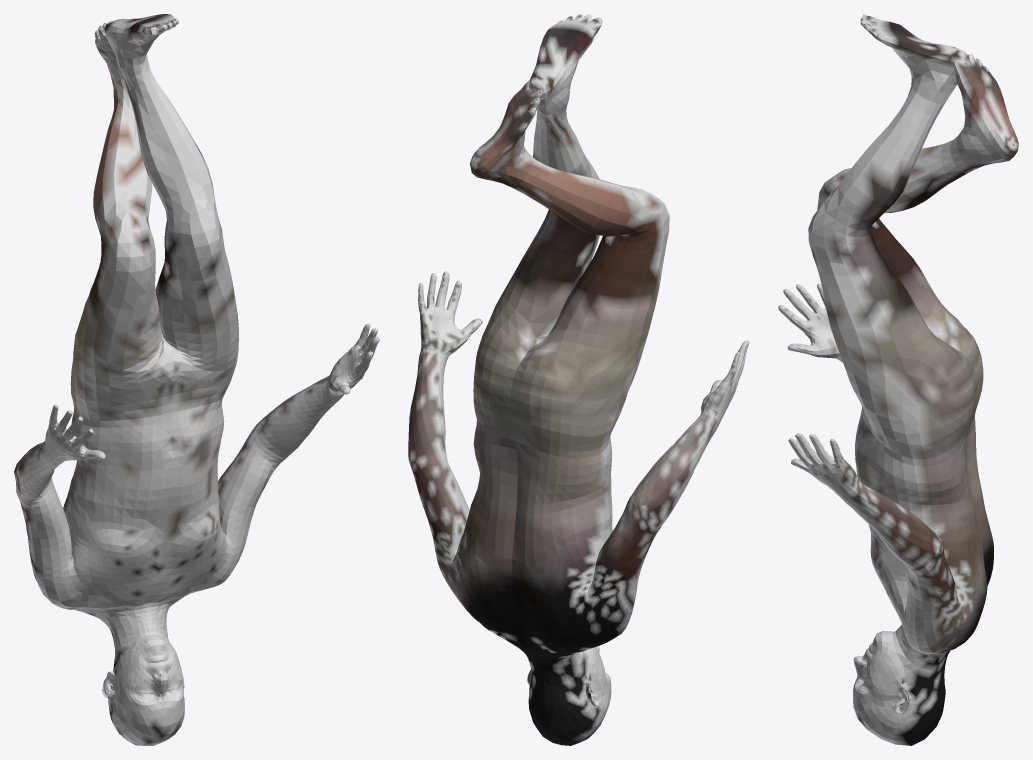
Rendered from 0001_c1s1_009376_02.jpg.obj.
3 views of the same model, side by side, from view 1: azimuth 30°, elevation 25°; view 2: azimuth 150°, elevation 25°; view 3: azimuth 270°, elevation 25° (orthographic). The views are drawn at different scales.
Size of the model in its own units: 0.8317 by 1.8 by 0.5449.
